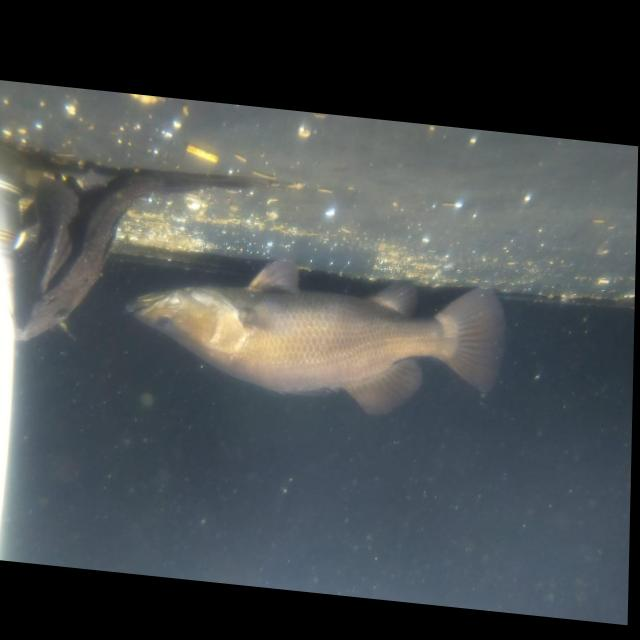Seabass: (129, 242, 506, 429)
